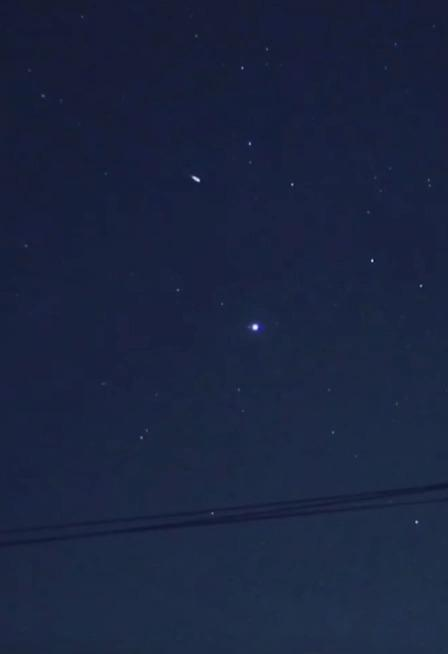meteorite: (180, 167, 209, 190)
